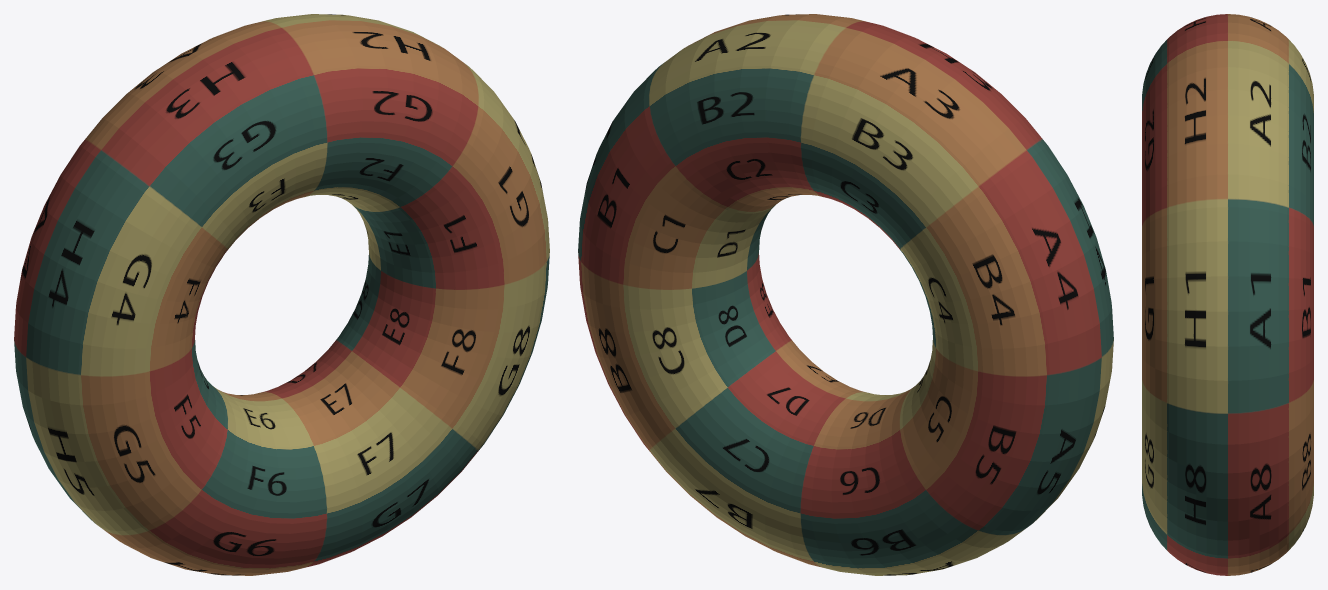
Rendered from texture_torus_R9_r19.glb.
3 renders of one model, left to right at view 1: azimuth 30°, elevation 25°; view 2: azimuth 150°, elevation 25°; view 3: azimuth 270°, elevation 25°, orthographic. The views are drawn at different scales.
Parts seen in each view (by area): view 1: world; view 2: world; view 3: world.
Boxes of the visible parts, x1,y1,x2,y2 form: world: (14, 14, 549, 575); world: (578, 14, 1113, 575); world: (1142, 14, 1313, 575).
Size of the model in its own units: 23.07 by 23.02 by 7.05.
1 material, 1 textured.
